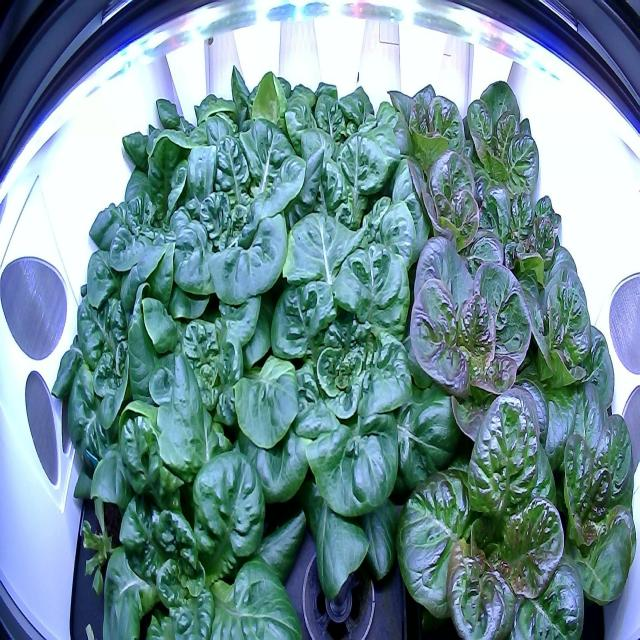young: (209, 209, 461, 601), (384, 382, 589, 640), (88, 415, 316, 639), (117, 260, 313, 500), (44, 264, 214, 517), (392, 227, 556, 471), (520, 356, 636, 630), (158, 116, 314, 312), (258, 110, 424, 279), (69, 161, 223, 340), (114, 67, 249, 234), (510, 243, 622, 440), (385, 134, 508, 292), (265, 66, 418, 190), (458, 66, 552, 232), (374, 64, 478, 213), (479, 161, 575, 305), (185, 54, 298, 154)
